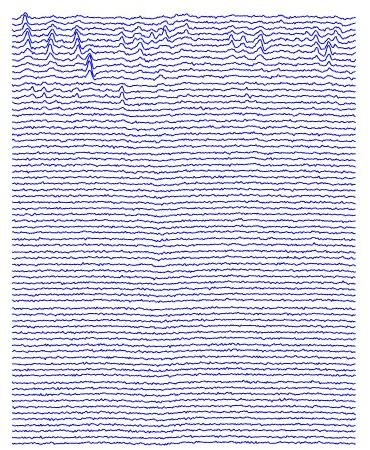defect: (304, 27, 342, 66), (226, 25, 267, 56), (157, 19, 192, 49), (43, 21, 56, 66), (133, 22, 146, 66), (27, 83, 51, 104), (20, 12, 32, 53), (83, 50, 95, 81), (116, 18, 125, 53), (117, 82, 129, 107), (70, 85, 85, 103), (72, 26, 80, 57)
